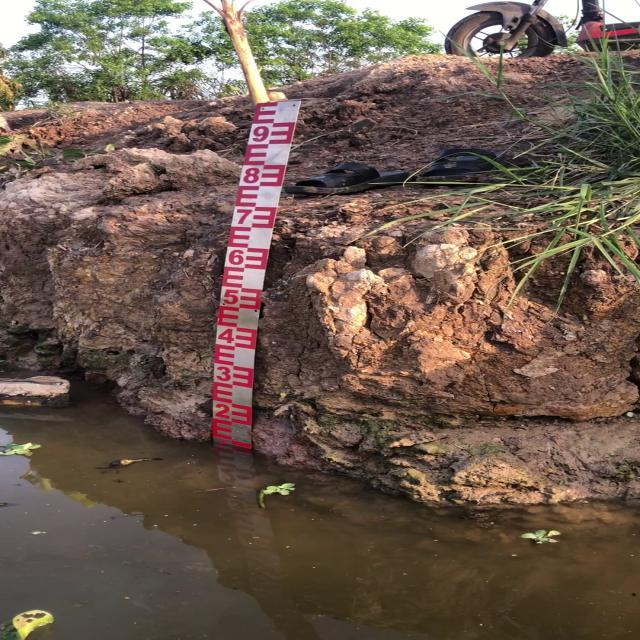ruler: (197, 95, 322, 475)
value: (238, 164, 264, 190), (249, 122, 273, 147), (232, 206, 256, 229), (225, 246, 248, 269), (220, 284, 242, 308), (210, 401, 232, 424), (212, 361, 234, 384), (214, 324, 236, 346)
